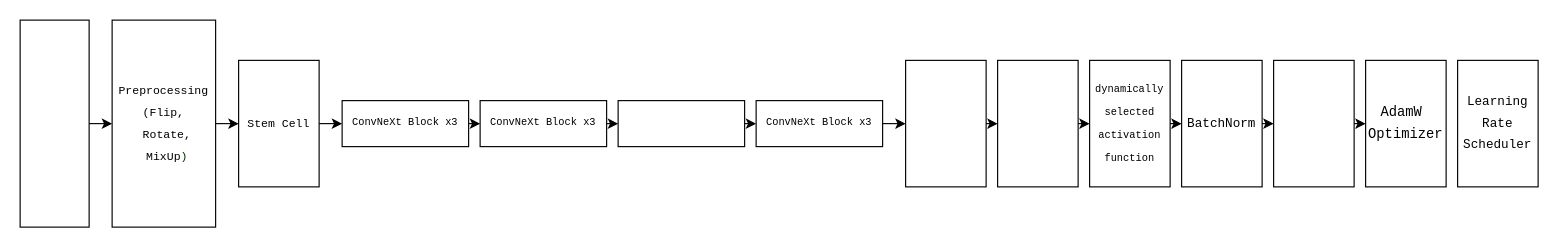
Some shapes in this 1558 by 247 pixel diagram are drawn without their labels. The centre of each missing label's shape, as x and y in pixels:
"SoftTarget CrossEntropy": point 1313,123
ConvNeXt Block x9: point 681,123
Dropout Layer: point 945,123
Fully Connected Layer: point 1037,123
Input Image: point 54,123
